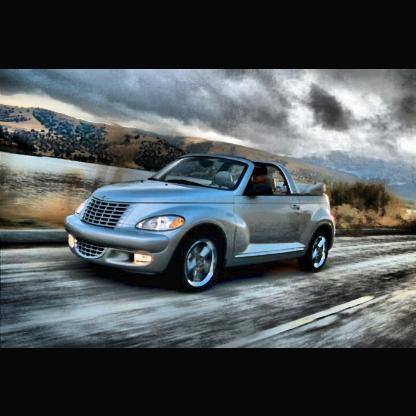Chrysler PT Cruiser Convertible 2008: (63, 151, 341, 295)
